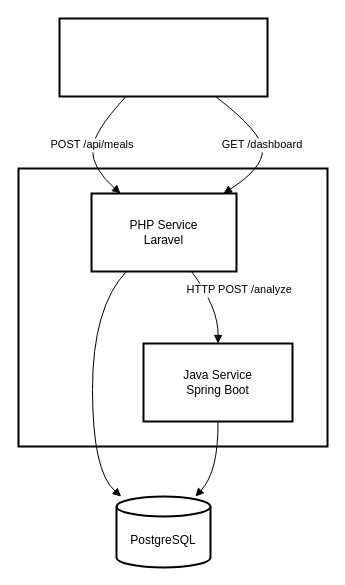
Image size: 345x585. Some labels were removed from this diagram. The box of each missing label's shape, as (x1, y1, x2, y2) in pixels:
Frontend HTML + JS + Chart.js: (58, 17, 268, 97)
Microservicios: (17, 167, 328, 447)
